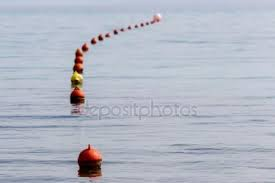buoy: (78, 150, 103, 168), (70, 89, 86, 100), (73, 64, 85, 73), (74, 55, 84, 63), (81, 44, 88, 50), (91, 38, 97, 44), (97, 33, 103, 38)
